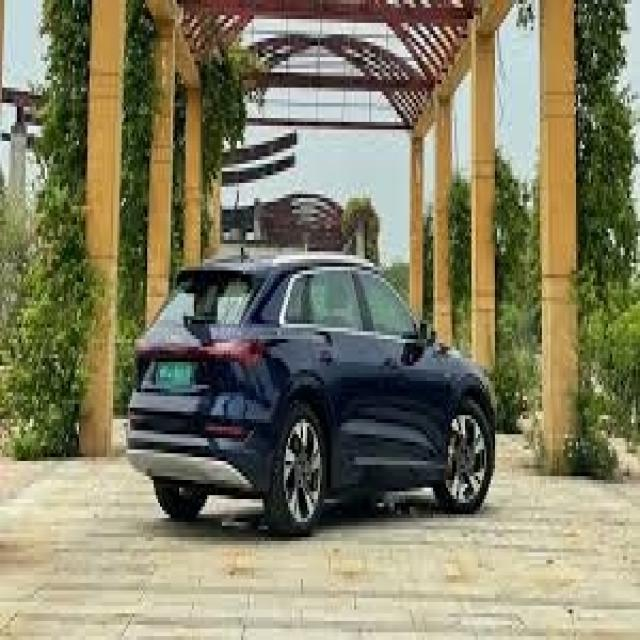blue: (126, 254, 493, 536)
